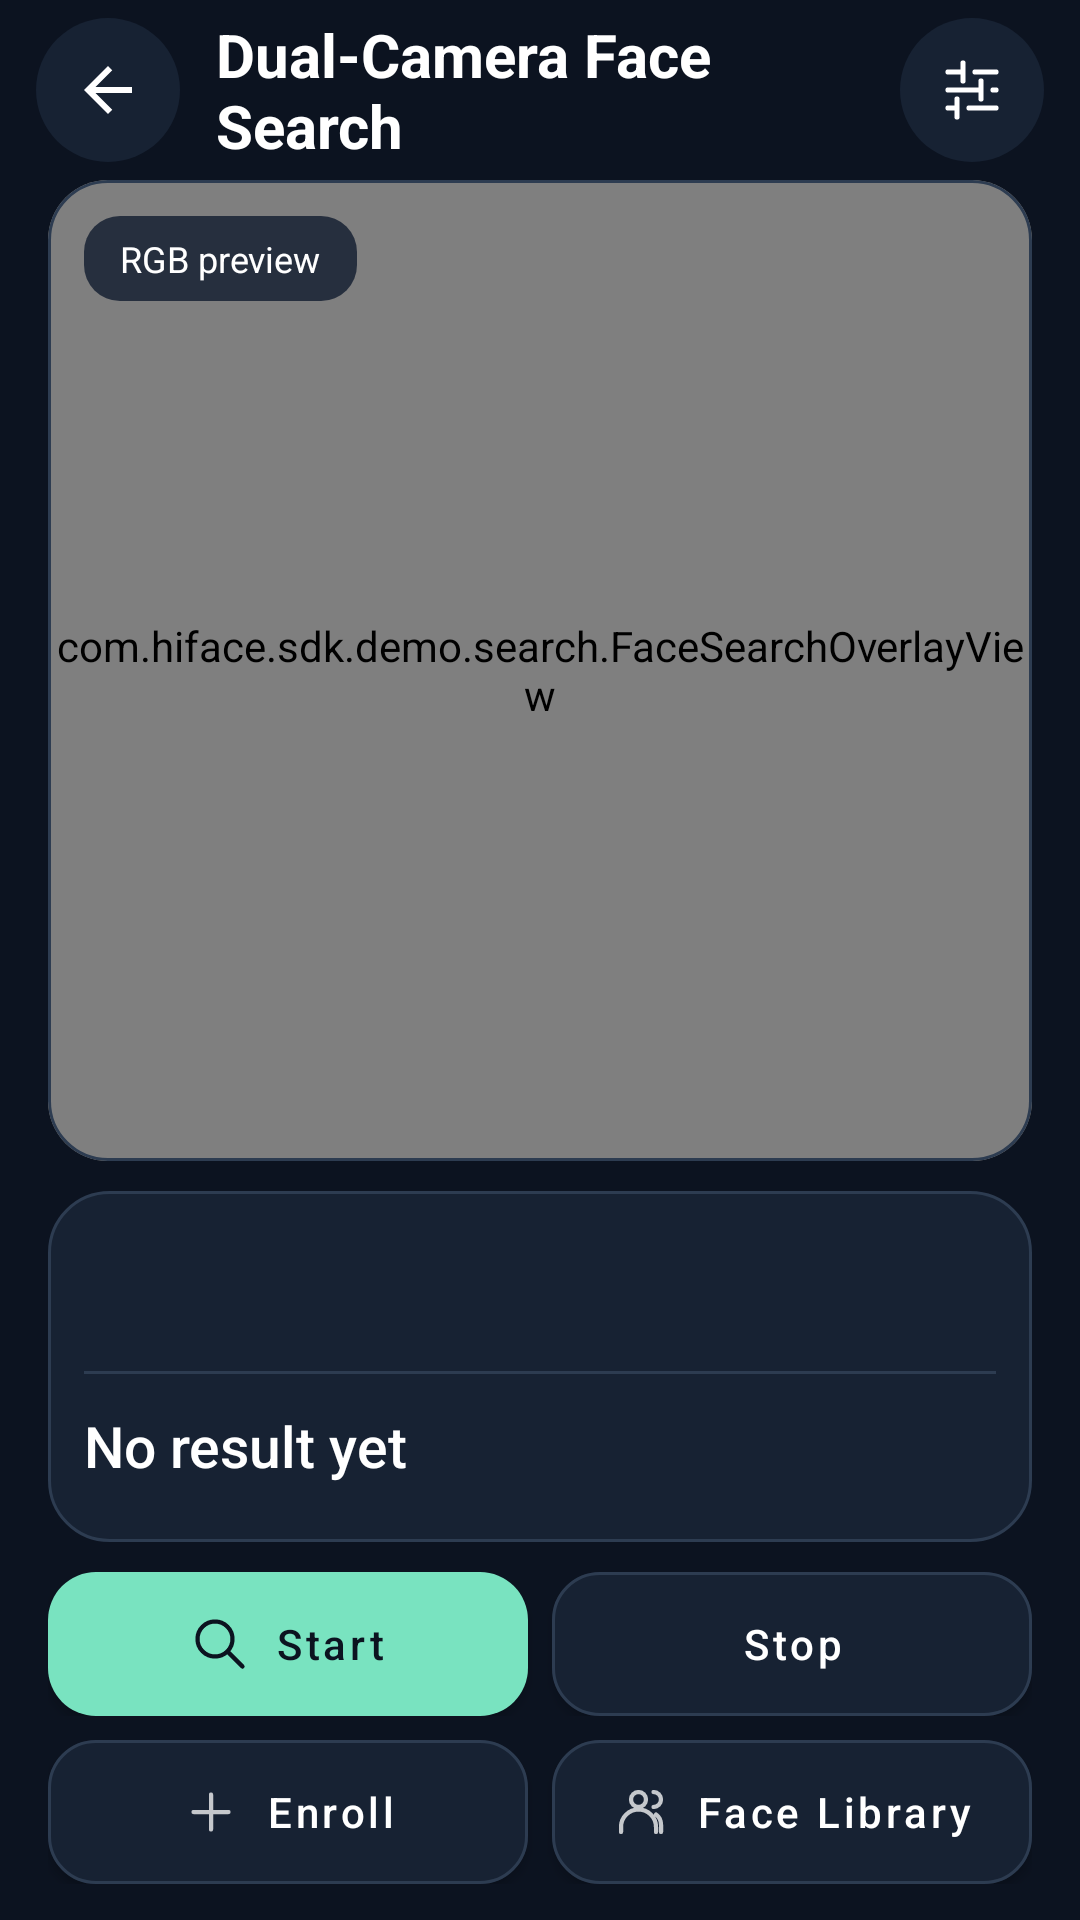

Screen size 1080×1920. Icon name, then its box in pixels as bbox=(x1, y1, x2, y2):
Back: bbox=(36, 18, 180, 162)
Settings: bbox=(900, 18, 1044, 162)
